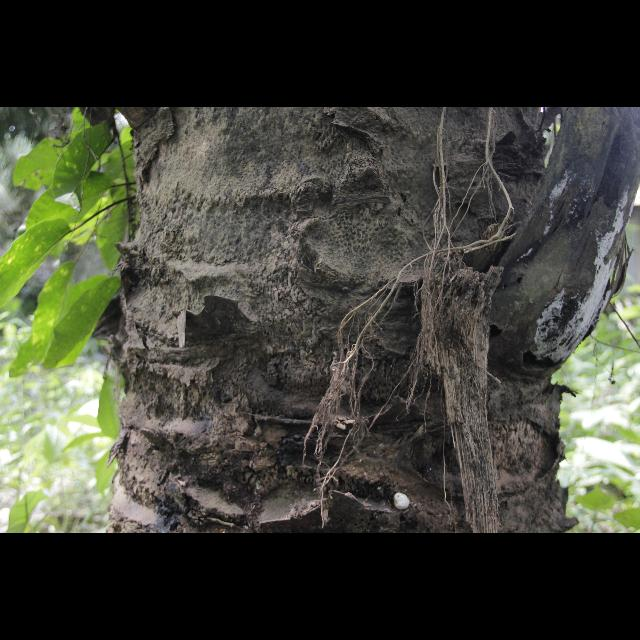primordium: (391, 492, 413, 512)
